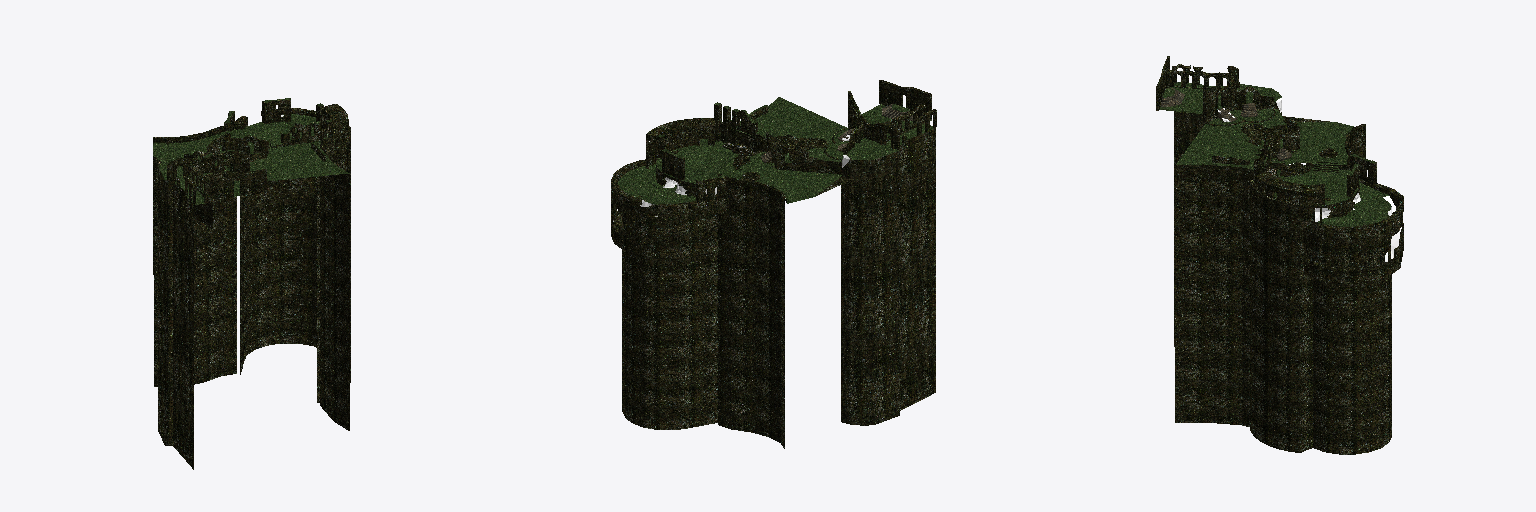
3 renders of one model, left to right at view 1: azimuth 30°, elevation 25°; view 2: azimuth 150°, elevation 25°; view 3: azimuth 270°, elevation 25°, orthographic.
Visible parts, largest first — view 1: mesh1, mesh0, mesh3; view 2: mesh1, mesh0, mesh3; view 3: mesh1, mesh0, mesh3, mesh6, mesh2.
Boxes of the visible parts, x1,y1,x2,y2 form: mesh1: [153, 108, 349, 469]; mesh0: [155, 100, 350, 402]; mesh3: [153, 98, 349, 204]; mesh1: [611, 106, 935, 448]; mesh0: [611, 80, 936, 248]; mesh3: [618, 97, 933, 204]; mesh1: [1174, 111, 1403, 454]; mesh0: [1156, 56, 1403, 452]; mesh3: [1160, 82, 1391, 226]; mesh6: [1161, 88, 1291, 160]; mesh2: [1218, 98, 1401, 261].
Size of the model in its own units: 45.14 by 55.35 by 42.03.
7 materials, 5 textured.